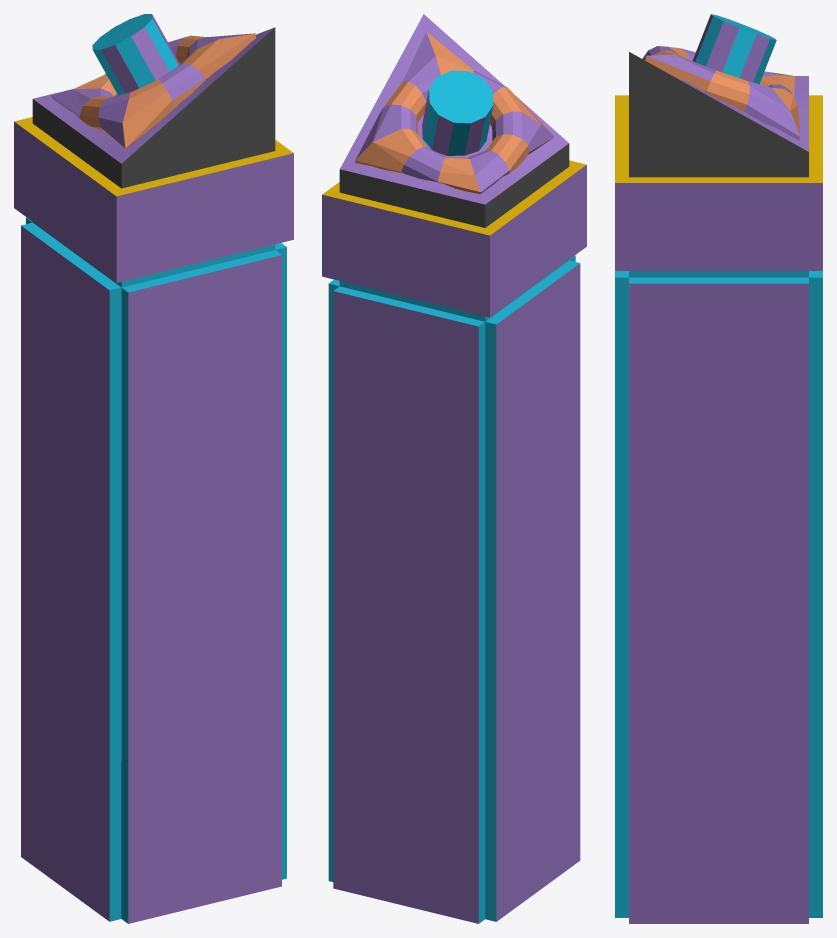
Rendered from Button_Pillar.fbx.
The picture shows the model from 3 angles, left to right: view 1: azimuth 30°, elevation 25°; view 2: azimuth 150°, elevation 25°; view 3: azimuth 270°, elevation 25°; orthographic projection. The views are drawn at different scales.
Visible parts, largest first — view 1: mesh_1714299155, mesh_2039619123, mesh_1704206061; view 2: mesh_1714299155, mesh_2039619123, mesh_1704206061; view 3: mesh_1714299155, mesh_2039619123, mesh_1704206061.
Part boxes in pixels (<box>): mesh_1714299155: <box>14,27,293,923</box>; mesh_2039619123: <box>51,33,255,148</box>; mesh_1704206061: <box>92,14,179,95</box>; mesh_1714299155: <box>322,14,586,923</box>; mesh_2039619123: <box>355,32,554,193</box>; mesh_1704206061: <box>422,70,493,155</box>; mesh_1714299155: <box>615,52,822,923</box>; mesh_2039619123: <box>642,46,800,140</box>; mesh_1704206061: <box>692,14,776,83</box>.
Bounding box in the file's own units: 15 × 69 × 15.
